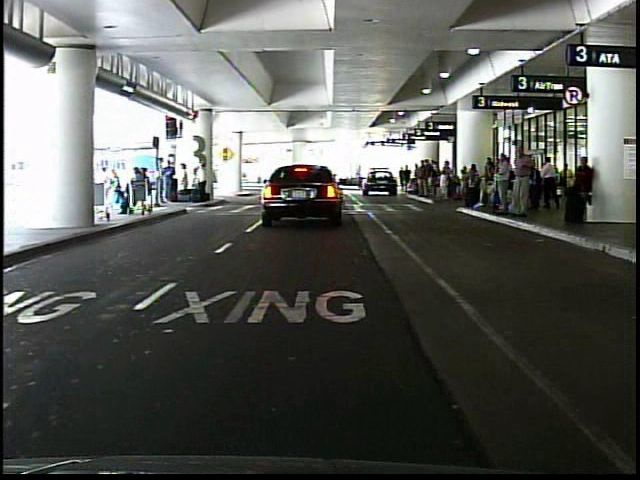person: (508, 139, 536, 223), (564, 151, 594, 228), (538, 153, 561, 212), (493, 151, 512, 216), (102, 158, 122, 215), (164, 155, 179, 203), (194, 158, 209, 201), (179, 161, 192, 201)
